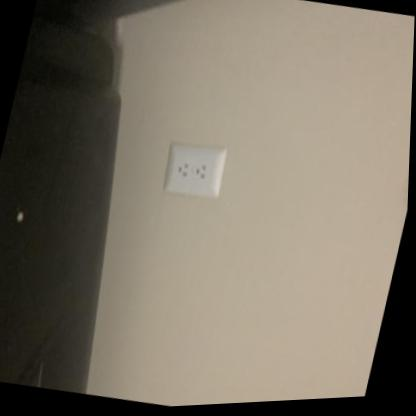OUTLET: (161, 139, 229, 202)
